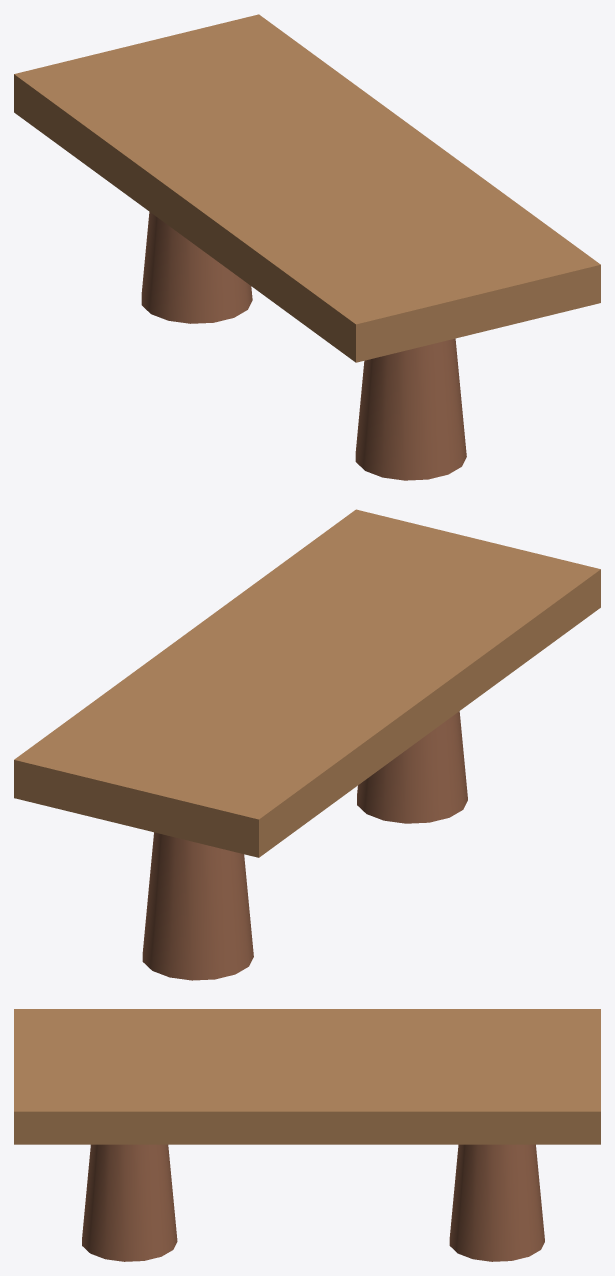
Rendered from Bench 3.fbx.
3 views of the same model, one above another, from view 1: azimuth 30°, elevation 25°; view 2: azimuth 150°, elevation 25°; view 3: azimuth 270°, elevation 25° (orthographic). The views are drawn at different scales.
Visible parts, largest first — view 1: Bench 3; view 2: Bench 3; view 3: Bench 3.
Boxes of the visible parts, box(x1,y1,x2,y2) form: Bench 3: box(14, 14, 600, 480); Bench 3: box(14, 509, 600, 980); Bench 3: box(14, 1009, 600, 1261).
Bounding box in the file's own units: 135 × 111 × 326.
